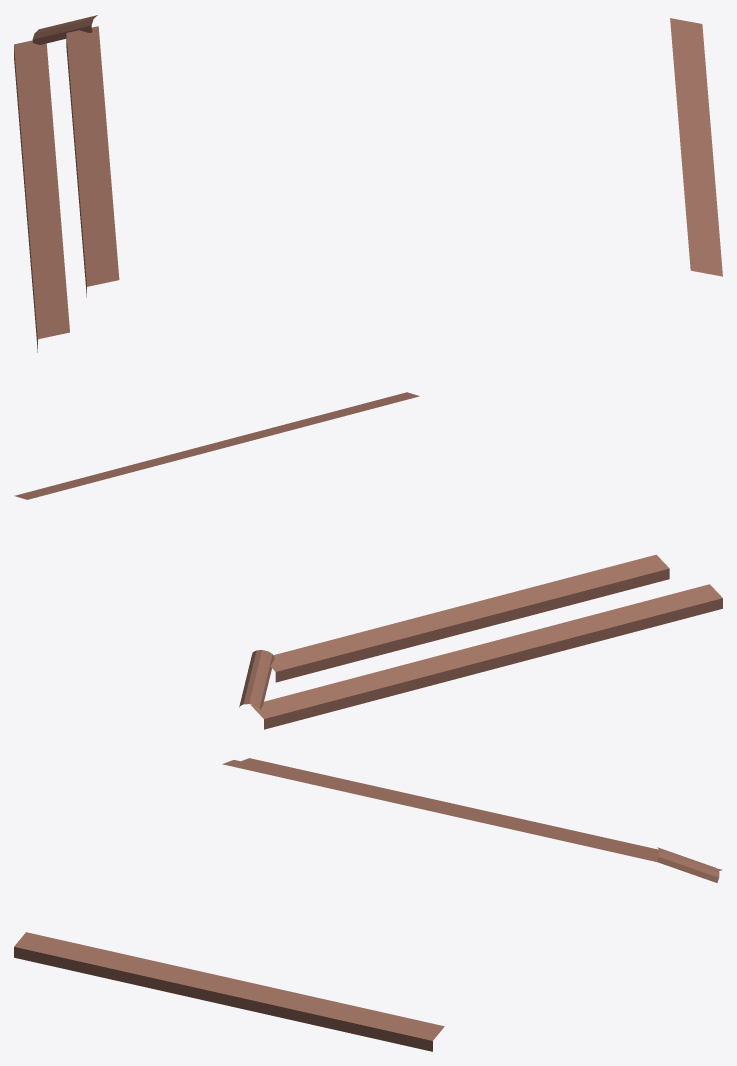
3 renders of one model, top to bottom at view 1: azimuth 30°, elevation 25°; view 2: azimuth 150°, elevation 25°; view 3: azimuth 270°, elevation 25°, orthographic. The views are drawn at different scales.
Parts seen in each view (by area): view 1: detail; view 2: detail; view 3: detail.
Part boxes in pixels (left/top/right/bottom): detail: left=14, top=15, right=722, bottom=352; detail: left=14, top=392, right=722, bottom=729; detail: left=14, top=758, right=722, bottom=1051.
Size of the model in its own units: 9.03 by 0.8033 by 8.85.
